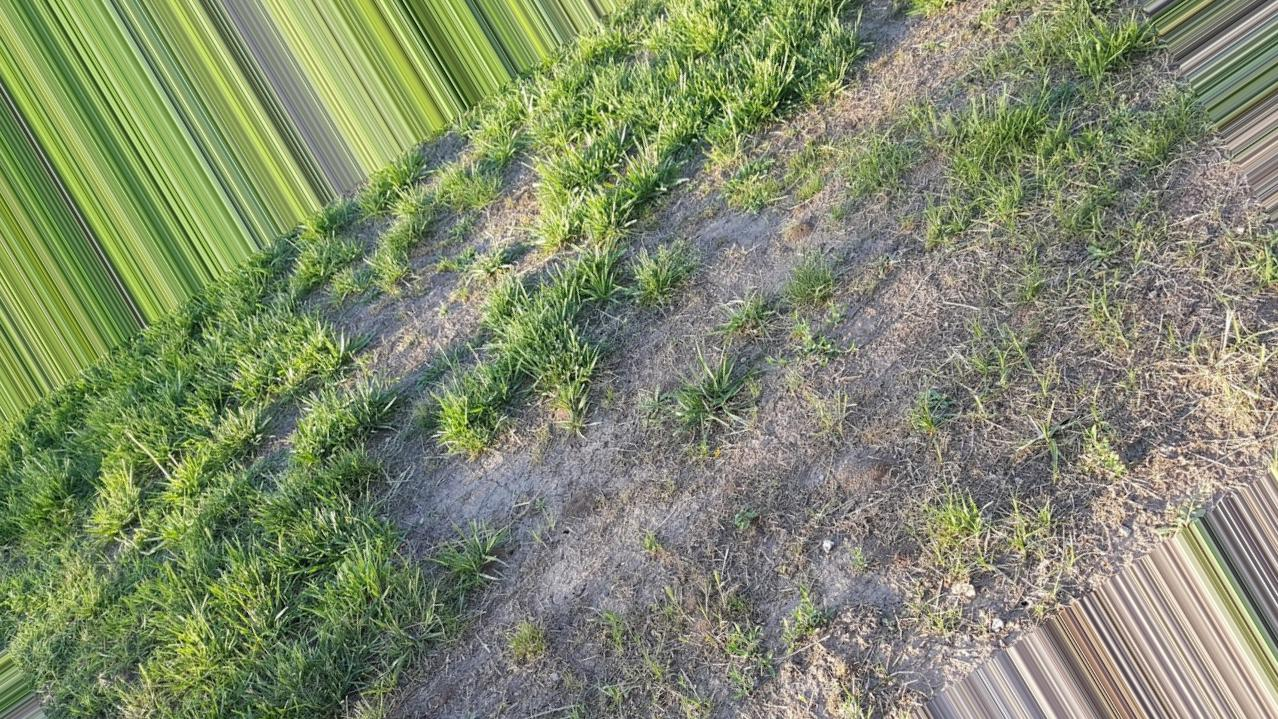patch: (715, 226, 998, 417), (498, 422, 769, 605), (1079, 272, 1238, 462), (829, 488, 980, 635), (847, 68, 960, 115)
